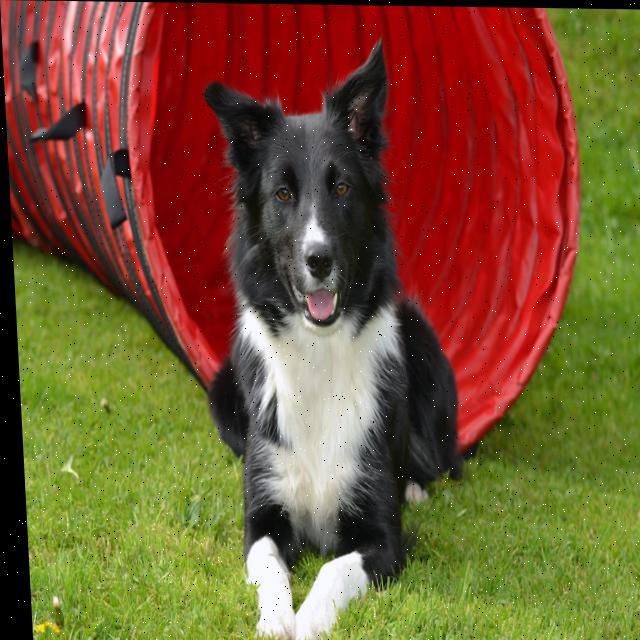BORDER_COLLIE: (159, 16, 472, 640)
